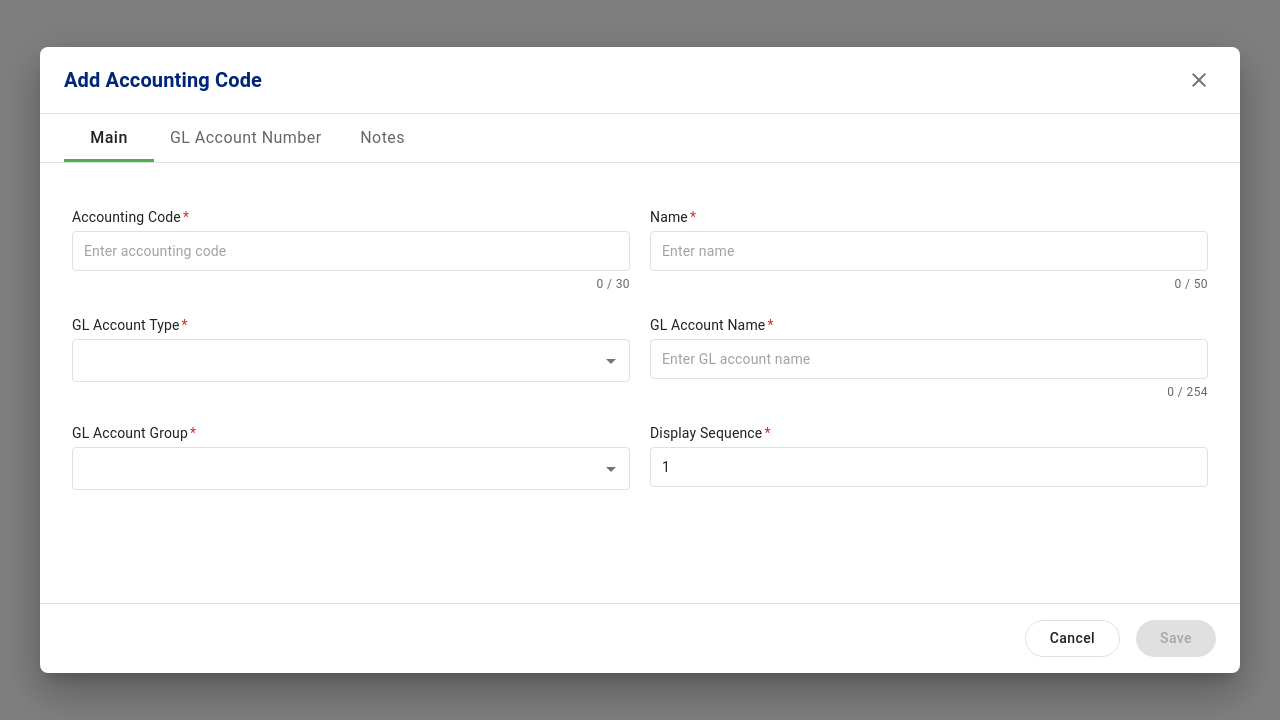
it: AddAccountingCodeDialog › displays empty state in GL Account Number tab
Note: Switch to GL Account Number tab
Click the tab "GL Account Number": [246, 138] box x1=154 y1=114 x2=338 y2=162
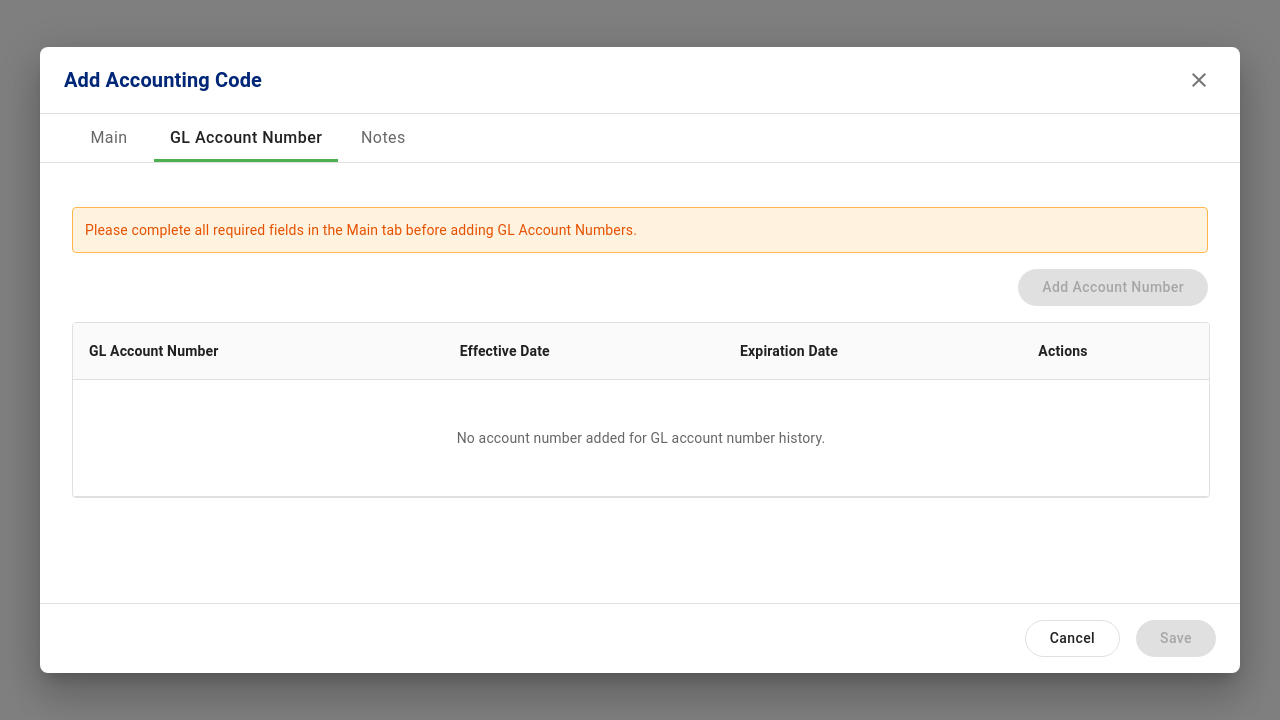
Result: the text "No account number added for GL account number history." is shown at x1=457 y1=430 x2=825 y2=446
